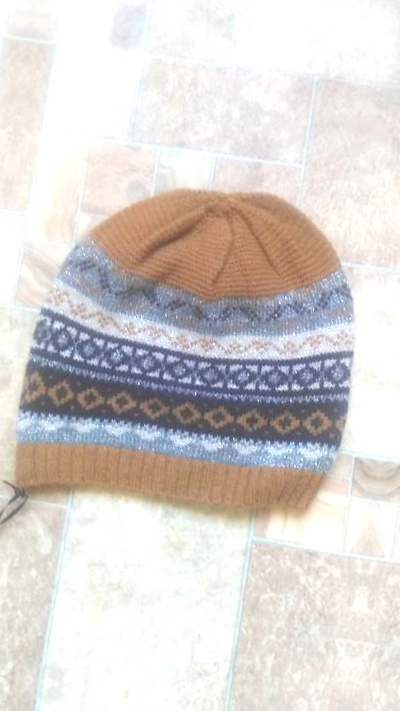Hat: (0, 119, 398, 590), (386, 178, 400, 649), (0, 63, 8, 535)
